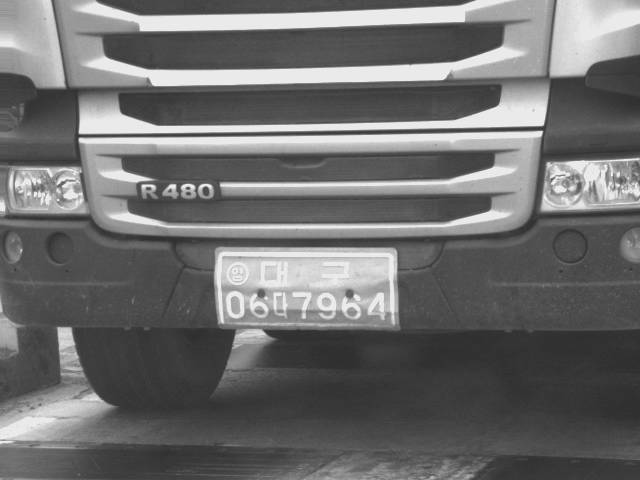car: (1, 1, 639, 413)
plate: (213, 245, 404, 332)
